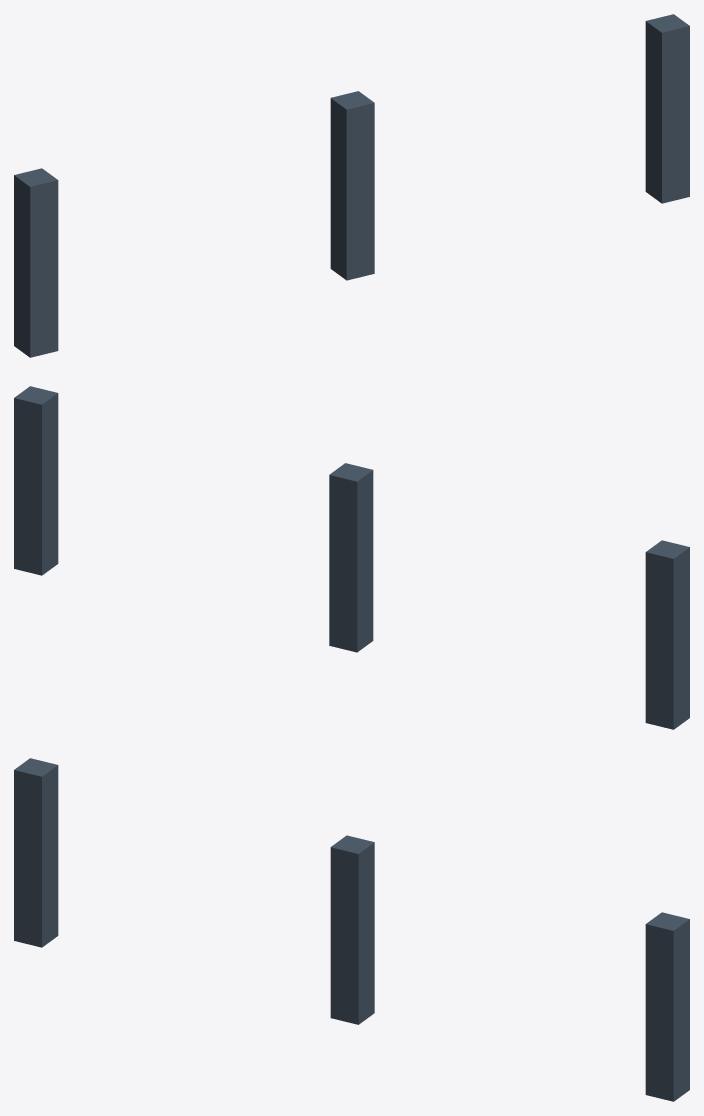
Rendered from gate.fbx.
3 renders of one model, top to bottom at view 1: azimuth 30°, elevation 25°; view 2: azimuth 150°, elevation 25°; view 3: azimuth 330°, elevation 25°, orthographic.
Parts seen in each view (by area): view 1: gate; view 2: gate; view 3: gate.
Boxes of the visible parts, box(x1,y1,x2,y2) form: gate: box(14, 14, 689, 357); gate: box(14, 386, 689, 729); gate: box(14, 758, 689, 1101).
Bounding box in the file's own units: 1.81 × 0.4486 × 0.0771.
